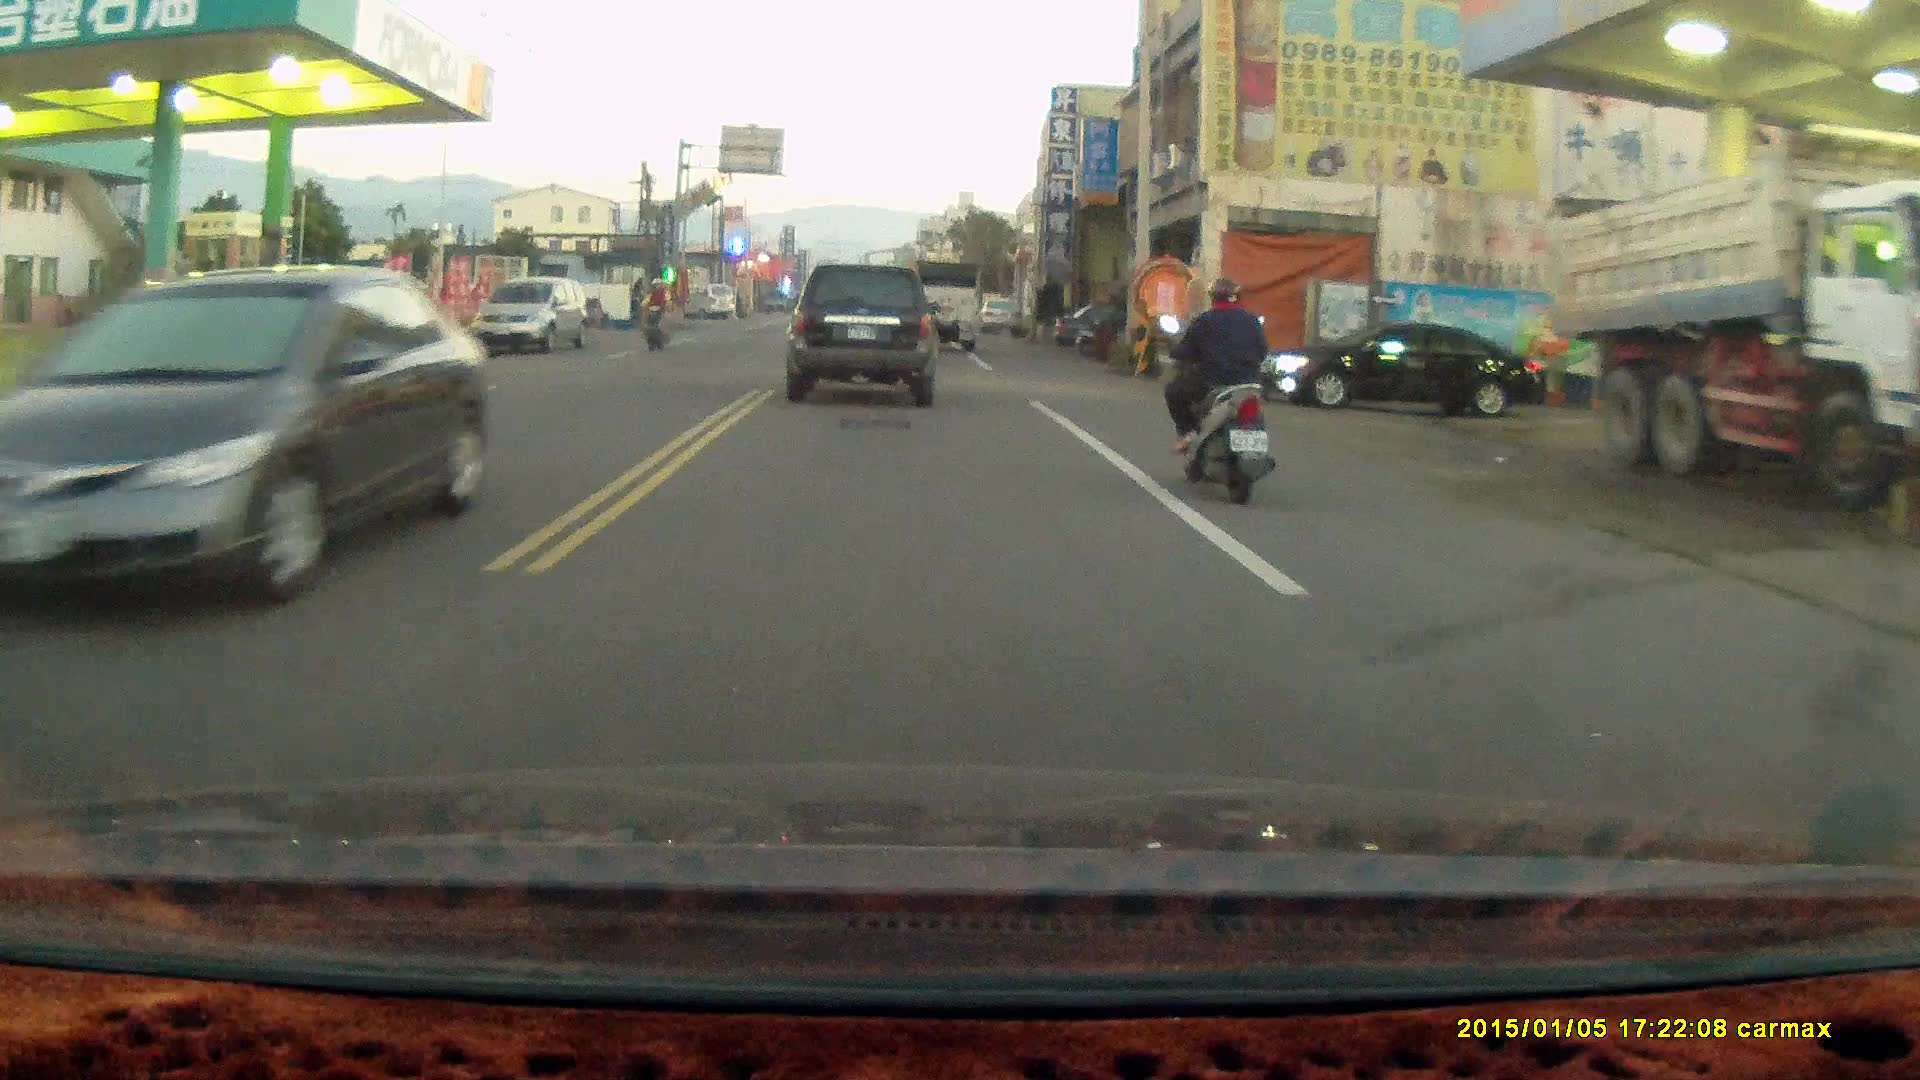rider: (1156, 275, 1274, 505), (634, 276, 669, 354)
vehicle: (1, 264, 508, 613), (1550, 127, 1920, 490), (1274, 323, 1553, 419), (789, 263, 940, 409), (471, 275, 588, 361), (909, 260, 982, 351)
